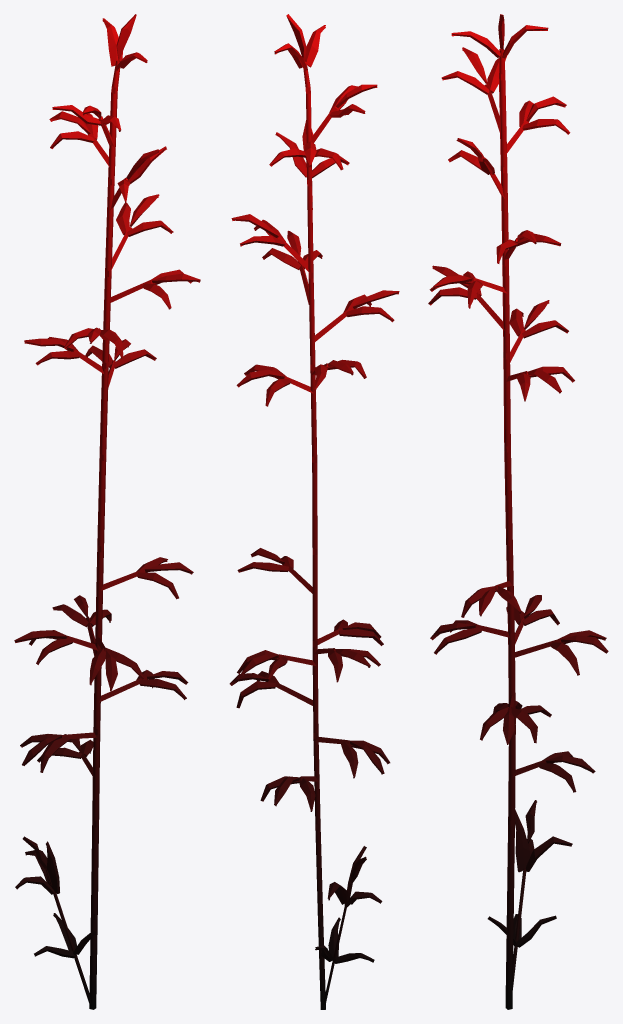
Rendered from TreeBamboo07.fbx.
The picture shows the model from 3 angles, left to right: view 1: azimuth 30°, elevation 25°; view 2: azimuth 150°, elevation 25°; view 3: azimuth 270°, elevation 25°; orthographic projection. The views are drawn at different scales.
Parts seen in each view (by area): view 1: TreeBamboo07_LOD0; view 2: TreeBamboo07_LOD0; view 3: TreeBamboo07_LOD0.
Boxes of the visible parts, bbox=[...] form: TreeBamboo07_LOD0: bbox=[14, 14, 200, 1009]; TreeBamboo07_LOD0: bbox=[229, 14, 399, 1009]; TreeBamboo07_LOD0: bbox=[428, 14, 608, 1009].
Size of what is drawn, in the model's own units: 112 by 651 by 105.
